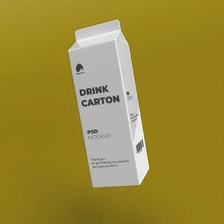carton: (63, 16, 152, 191)
